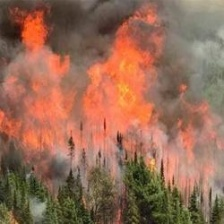fire: (17, 12, 77, 166), (88, 16, 155, 140)
smoke: (177, 4, 223, 207)
